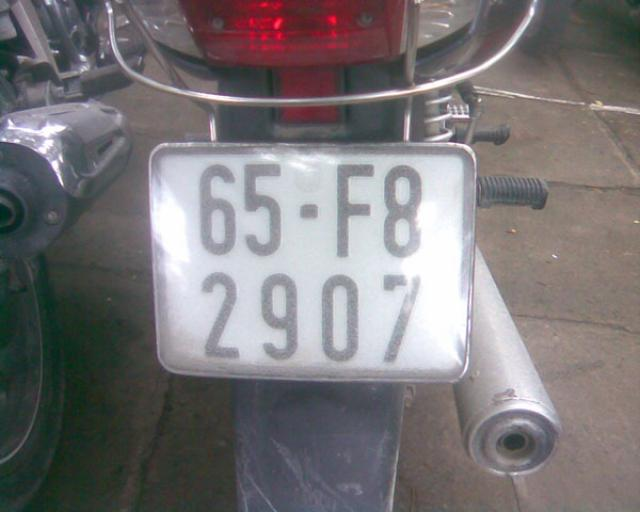plate: (146, 142, 474, 382)
